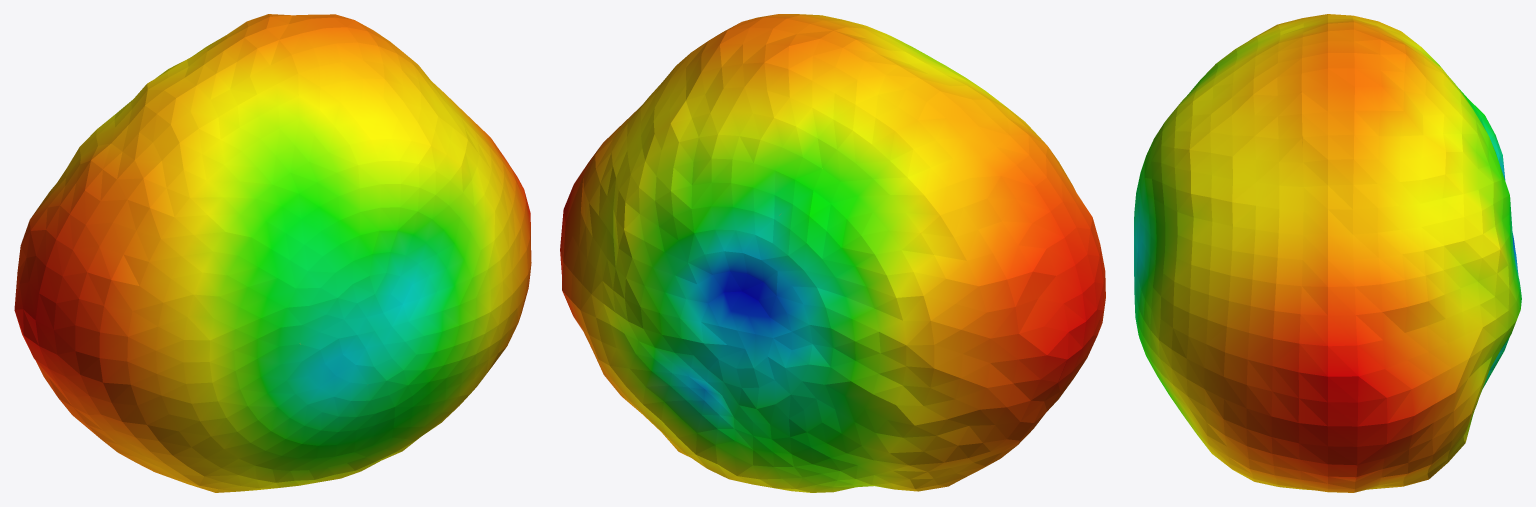
File: color_model1_test2.fbx
The picture shows the model from 3 angles, left to right: view 1: azimuth 30°, elevation 25°; view 2: azimuth 150°, elevation 25°; view 3: azimuth 270°, elevation 25°; orthographic projection. The views are drawn at different scales.
Parts seen in each view (by area): view 1: psyche.v.final.mod; view 2: psyche.v.final.mod; view 3: psyche.v.final.mod.
Part boxes in pixels (box(x1,y1,x2,y2)): psyche.v.final.mod: box(14, 14, 531, 492); psyche.v.final.mod: box(560, 14, 1105, 492); psyche.v.final.mod: box(1134, 14, 1521, 492).
Size of the model in its own units: 27865 by 23224 by 18876.
